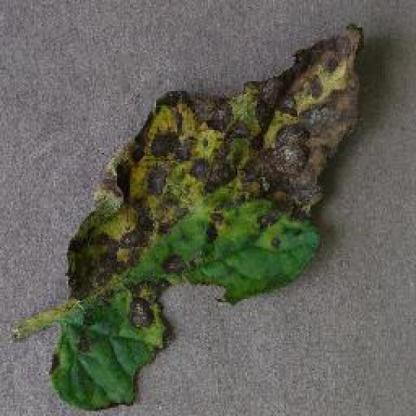Tomato_Blight: (52, 26, 361, 407)
